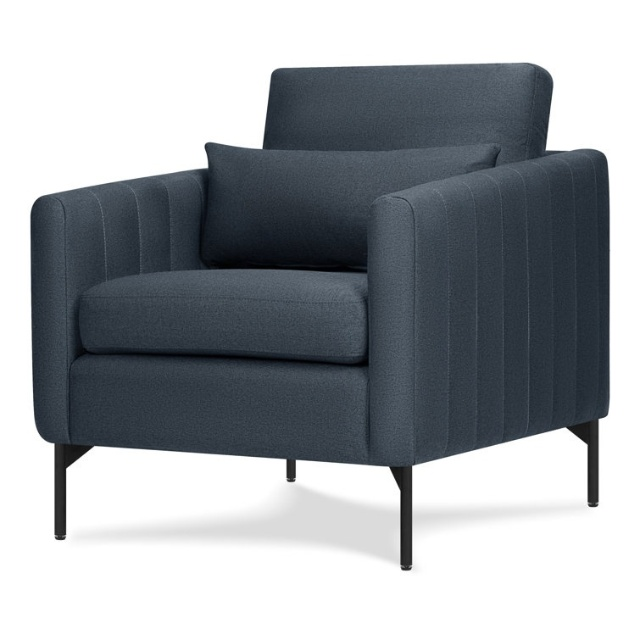obstacle: (31, 64, 608, 569)
